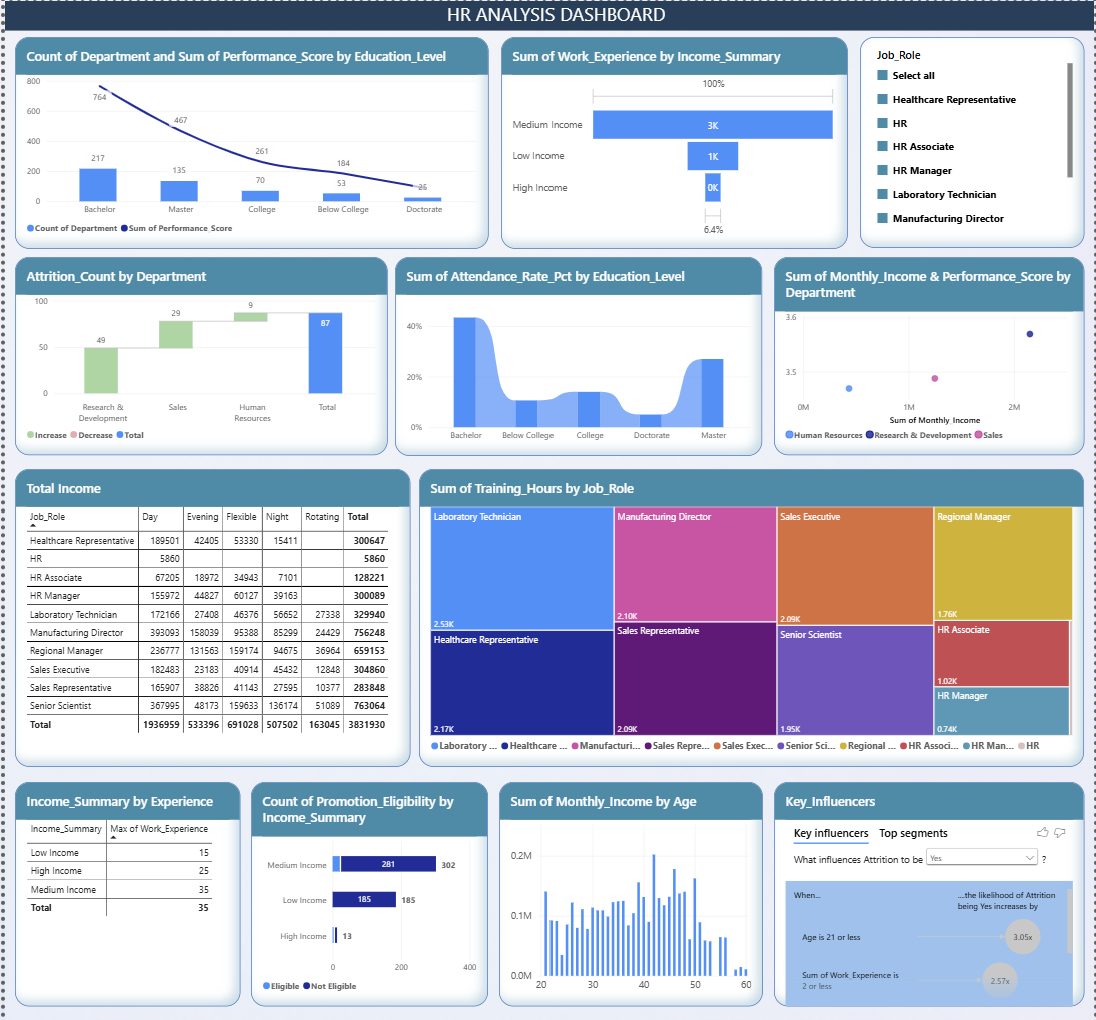

What the dashboard file says about the page in this screenshot:
{"tool":"powerbi","page":{"name":"HR_Analysis_Dashboard","canvas":[1600,1500],"ordinal":27},"visuals":[{"type":"textbox","box":[0,0,1600,43.3],"z":0},{"type":"lineClusteredColumnComboChart","fields":{"Category":["HR Details.Education_Level"],"Y":["CountNonNull(HR Details.Department)"],"Y2":["Sum(HR Details.Performance_Score)"]},"box":[15,53.3,696.7,311.7],"z":1000},{"type":"ribbonChart","title":"Sum of Attendance_Rate_Pct by Education_Level","fields":{"Category":["HR Details.Education_Level","HR Details.Department"],"Y":["Divide(Sum(HR Details.Attendance_Rate_Pct), ScopedEval(Sum(HR Details.Attendance_Rate_Pct), []))"]},"box":[573.8,376.9,538.5,292.3],"z":2000},{"type":"waterfallChart","title":"Attrition_Count by Department","fields":{"Category":["HR Details.Department"],"Y":["Attendance by Gender.Attrition_Count"]},"box":[13.8,376.9,547.9,291.5],"z":3000},{"type":"funnel","fields":{"Category":["HR Details.Income_Summary"],"Y":["Sum(HR Details.Work_Experience)"]},"box":[728.3,51.7,508.3,311.7],"z":4000},{"type":"pivotTable","title":"Total Income","fields":{"Columns":["HR Details.Work_Shift"],"Rows":["HR Details.Job_Role"],"Values":["Sum(HR Details.Monthly_Income)"]},"box":[13.3,688.3,581.7,436.7],"z":5000},{"type":"treemap","fields":{"Group":["HR Details.Job_Role"],"Values":["Sum(HR Details.Training_Hours)"]},"box":[608.3,688.3,976.7,436.7],"z":7000},{"type":"scatterChart","title":"Sum of Monthly_Income & Performance_Score by Department","fields":{"Series":["HR Details.Department"],"X":["Sum(HR Details.Monthly_Income)"],"Y":["Avg(HR Details.Performance_Score)"]},"box":[1128.3,376.7,456.7,291.7],"z":8000},{"type":"keyDriversVisual","title":"Key_Influencers","fields":{"ExplainBy":["Sum(HR Details.Work_Experience)","HR Details.Job_Role","Performance by Age.Age"],"Target":["HR Details.Attrition"]},"box":[1129,1146.8,456.7,330],"z":9000},{"type":"slicer","fields":{"Values":["HR Details.Job_Role"]},"box":[1255,53.3,330,310],"z":10000},{"type":"tableEx","title":"Income_Summary by Experience","fields":{"Values":["HR Details.Income_Summary","Max(HR Details.Work_Experience)"]},"box":[14.5,1146.8,331.7,330],"z":10001},{"type":"clusteredColumnChart","fields":{"Category":["Performance by Age.Age"],"Y":["Sum(HR Details.Monthly_Income)"]},"box":[727.4,1146.8,386.7,330],"z":10002},{"type":"barChart","title":"Count of Promotion_Eligibility by Income_Summary","fields":{"Category":["HR Details.Income_Summary"],"Series":["HR Details.Promotion_Eligibility"],"Y":["CountNonNull(HR Details.Promotion_Eligibility)"]},"box":[362.9,1148.4,348.3,330],"z":10003}]}

Visuals, with their boxes in screenshot pixels (x1, y1, x2, y2), scaled from the page's 1600x1500 canvas onto the 1096x1020 screenshot:
textbox: bbox=[0, 0, 1095, 29]
lineClusteredColumnComboChart - HR Details.Education_Level x CountNonNull(HR Details.Department): bbox=[10, 36, 488, 248]
"Sum of Attendance_Rate_Pct by Education_Level" ribbonChart: bbox=[393, 256, 762, 455]
"Attrition_Count by Department" waterfallChart: bbox=[9, 256, 385, 455]
funnel - HR Details.Income_Summary x Sum(HR Details.Work_Experience): bbox=[499, 35, 847, 247]
"Total Income" pivotTable: bbox=[9, 468, 408, 765]
treemap - HR Details.Job_Role x Sum(HR Details.Training_Hours): bbox=[417, 468, 1086, 765]
"Sum of Monthly_Income & Performance_Score by Department" scatterChart: bbox=[773, 256, 1086, 455]
"Key_Influencers" keyDriversVisual: bbox=[773, 780, 1086, 1004]
slicer - HR Details.Job_Role: bbox=[860, 36, 1086, 247]
"Income_Summary by Experience" tableEx: bbox=[10, 780, 237, 1004]
clusteredColumnChart - Performance by Age.Age x Sum(HR Details.Monthly_Income): bbox=[498, 780, 763, 1004]
"Count of Promotion_Eligibility by Income_Summary" barChart: bbox=[249, 781, 487, 1005]
